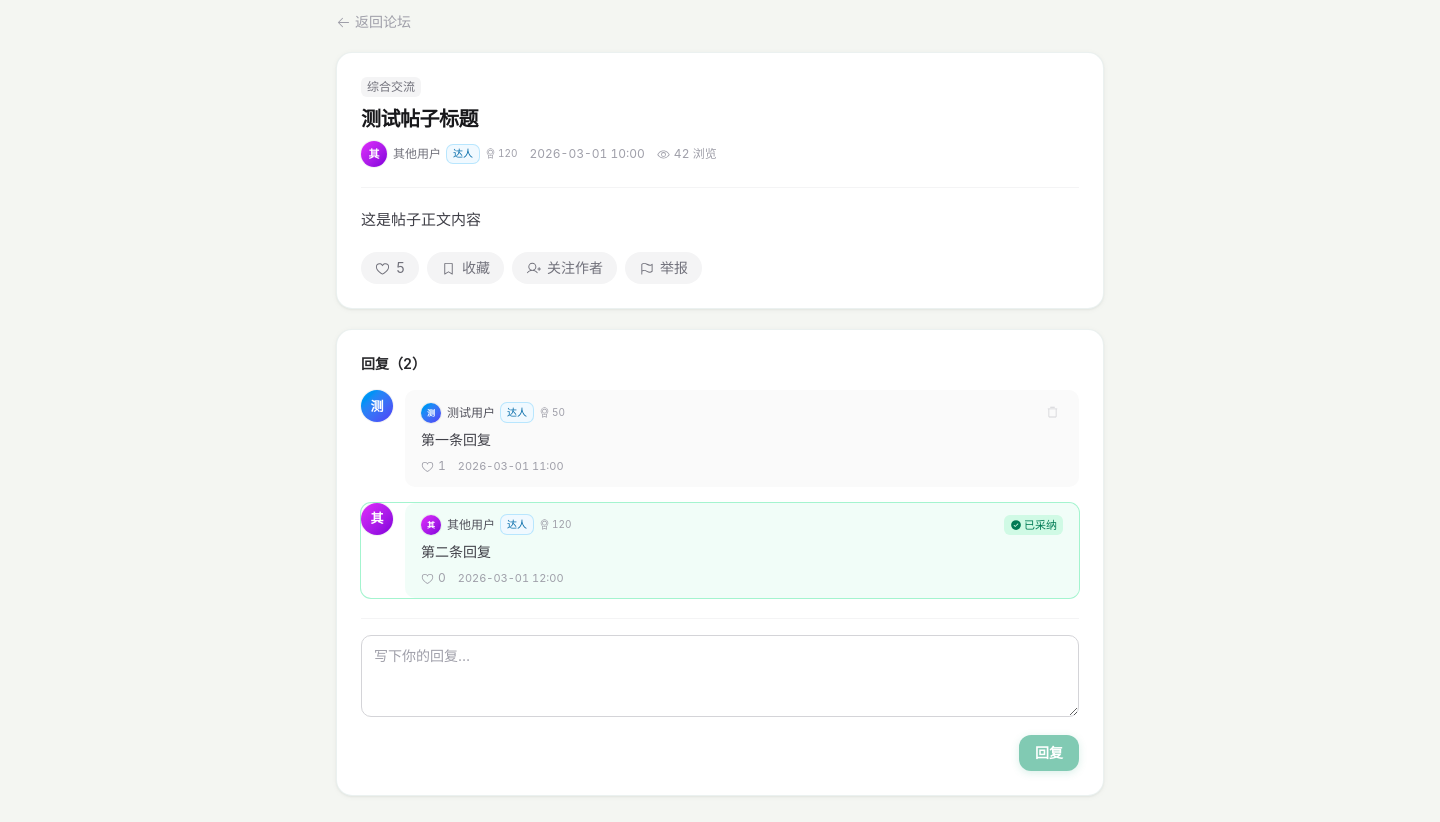
Test: ForumPostPage › 收藏按钮切换状态
Click the button "收藏". click: (466, 268)
box: [427,252,504,284]
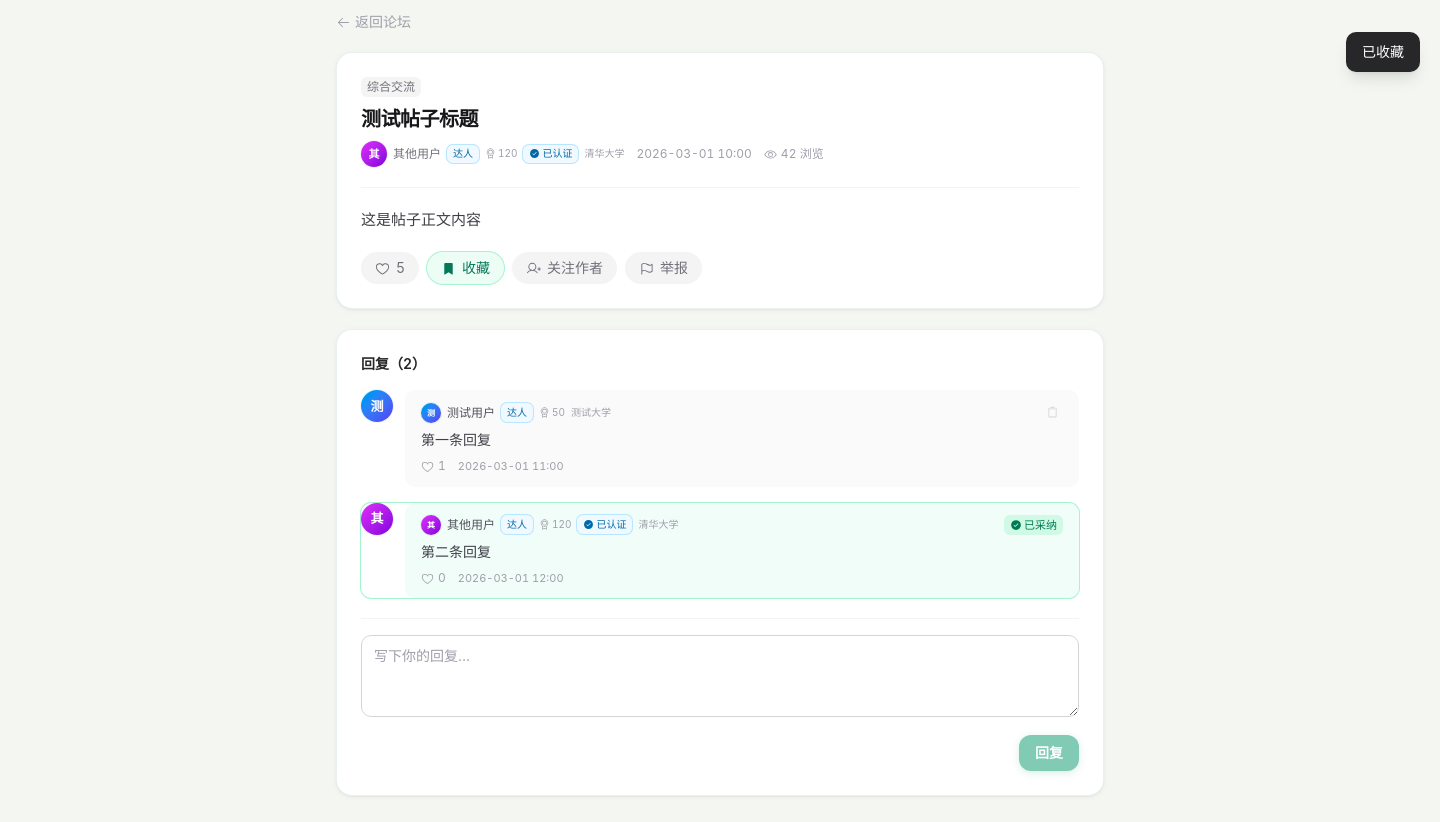
expect the text "已收藏" is shown: met, box [1346,32,1420,72]
